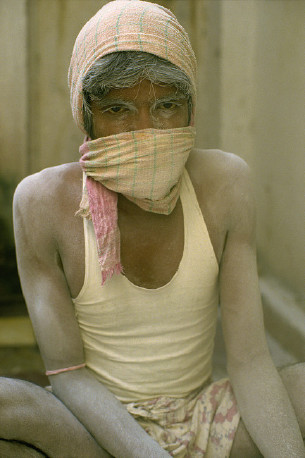face_mask: (93, 51, 193, 206)
